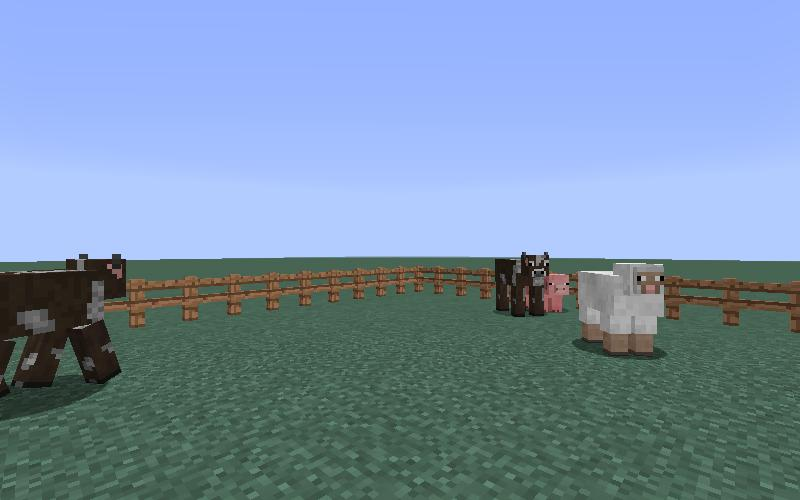cow: (1, 252, 129, 395), (494, 247, 549, 317)
pig: (548, 272, 569, 314)
sheep: (574, 254, 671, 366)
